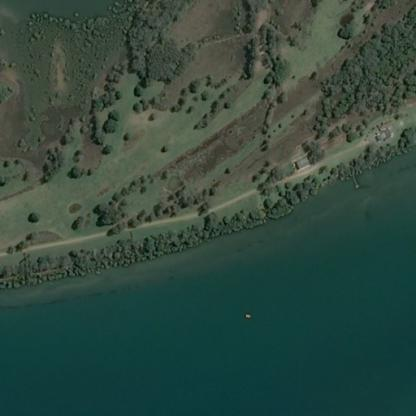ship: (243, 313, 249, 317)
